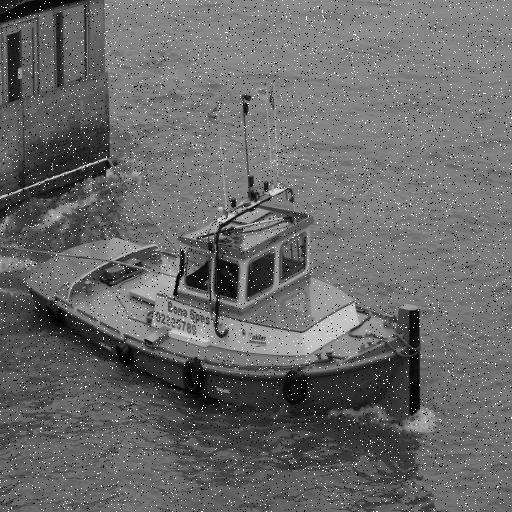tugboat: (22, 170, 432, 439)
